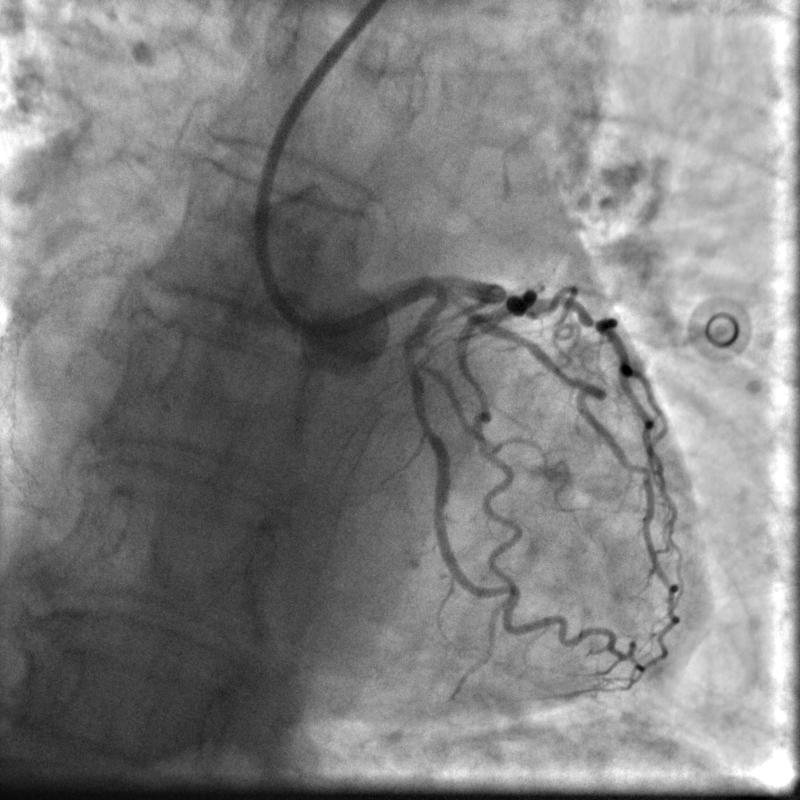Stenosis: (401, 339, 429, 378)
